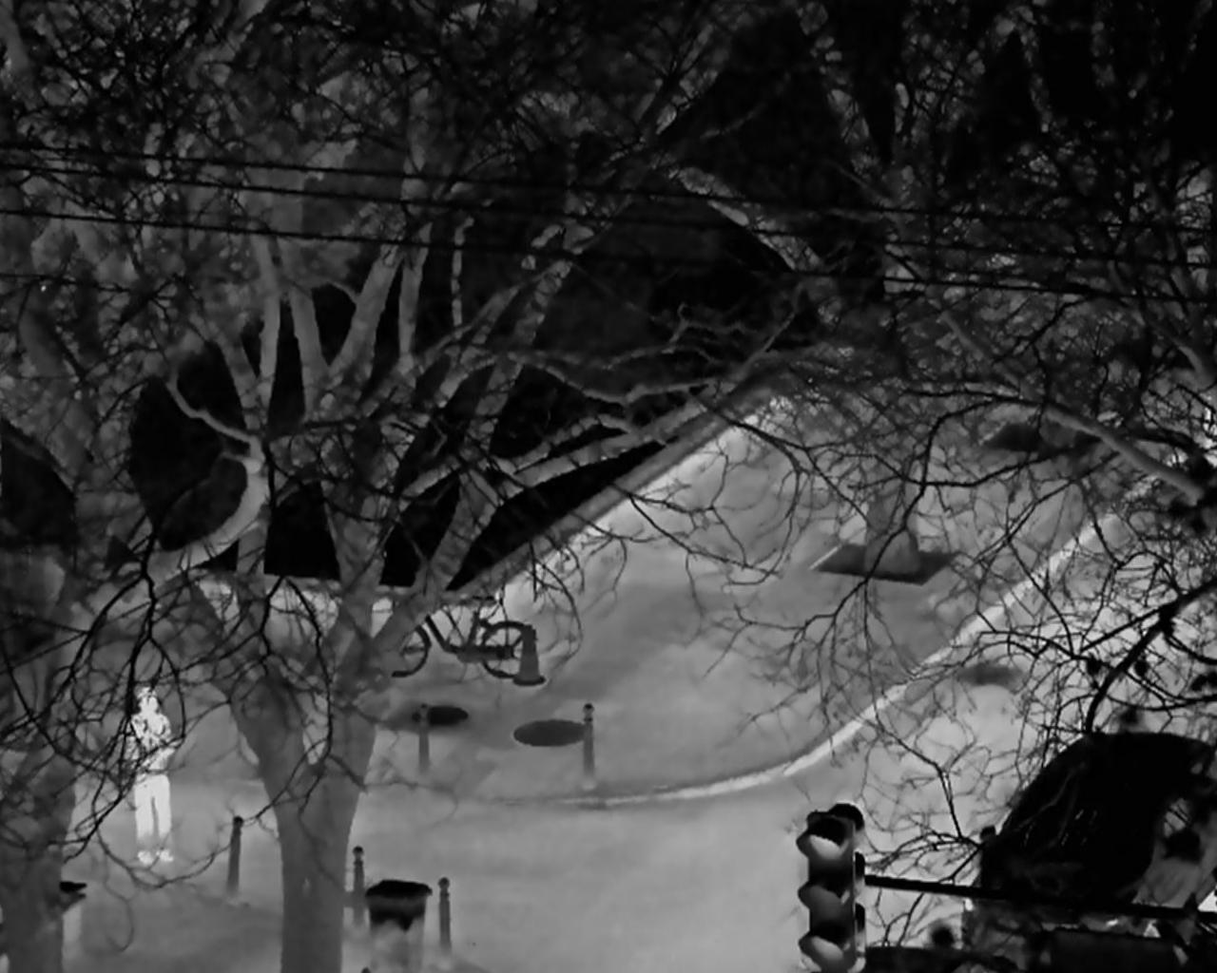person: (124, 689, 175, 868)
